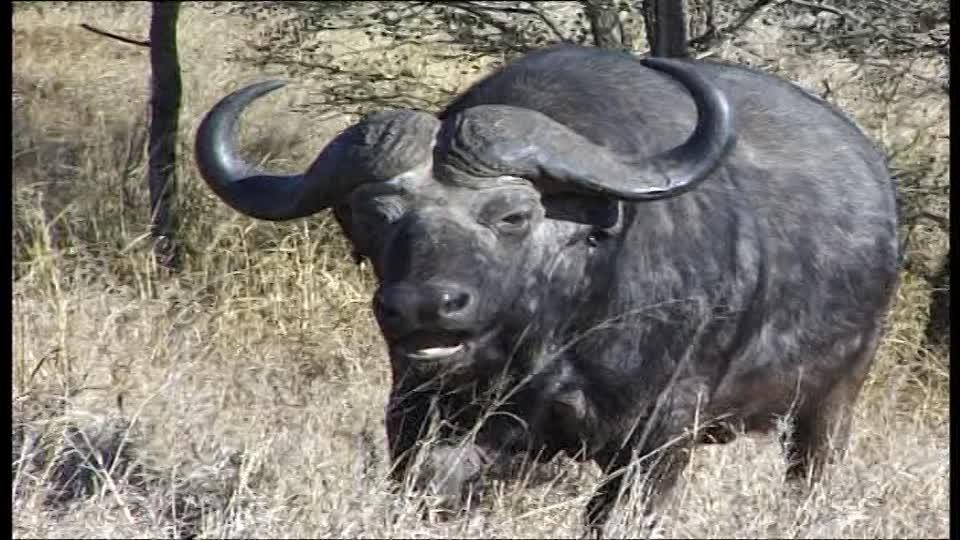Buffalo: (153, 0, 952, 540)
